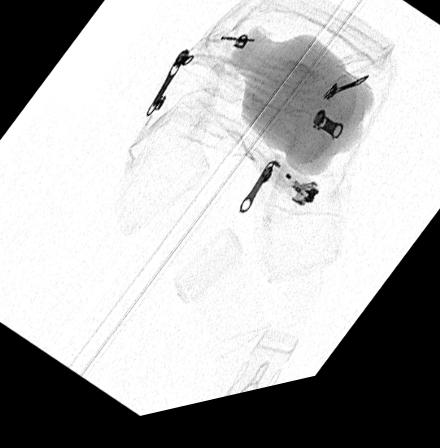Lighter: (257, 163, 321, 221)
